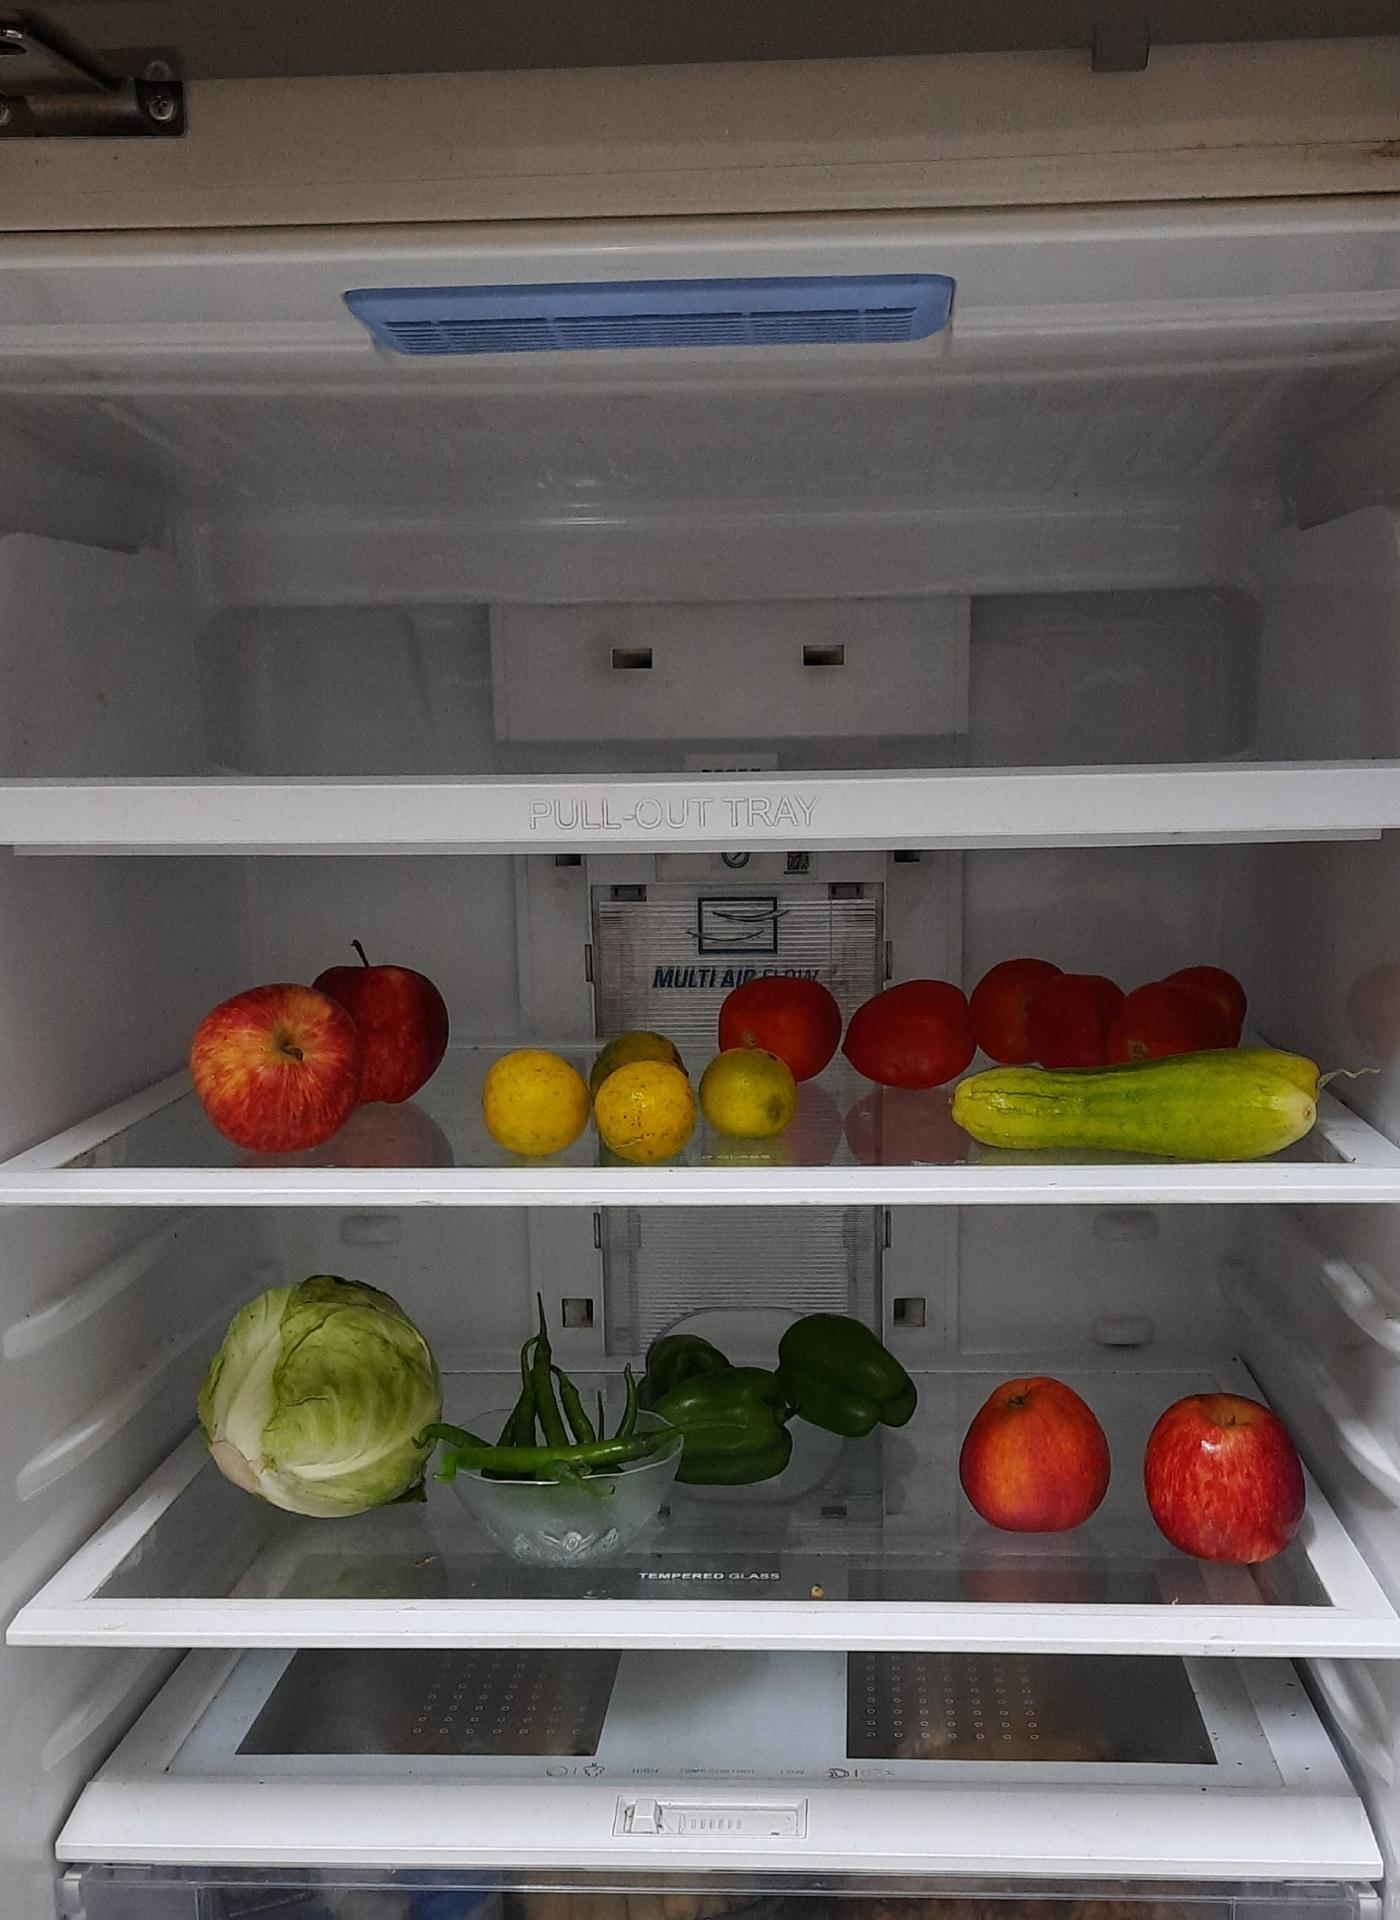apple: (188, 942, 459, 1161), (1147, 1386, 1314, 1565), (954, 1376, 1109, 1535)
cabbage: (195, 1283, 441, 1525)
capsicum: (638, 1307, 929, 1495)
chillies: (477, 1333, 677, 1495)
cucumber: (941, 1040, 1354, 1164)
lemon: (474, 1033, 795, 1158)
tomato: (711, 963, 1240, 1087)
